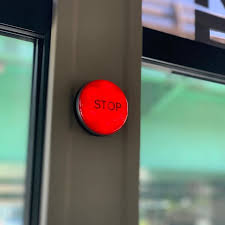bell: (74, 75, 132, 142)
